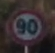limite 90: (5, 8, 48, 48)
